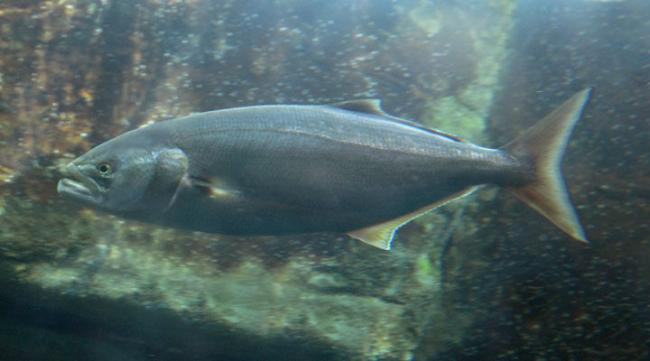fish: (56, 87, 590, 247)
